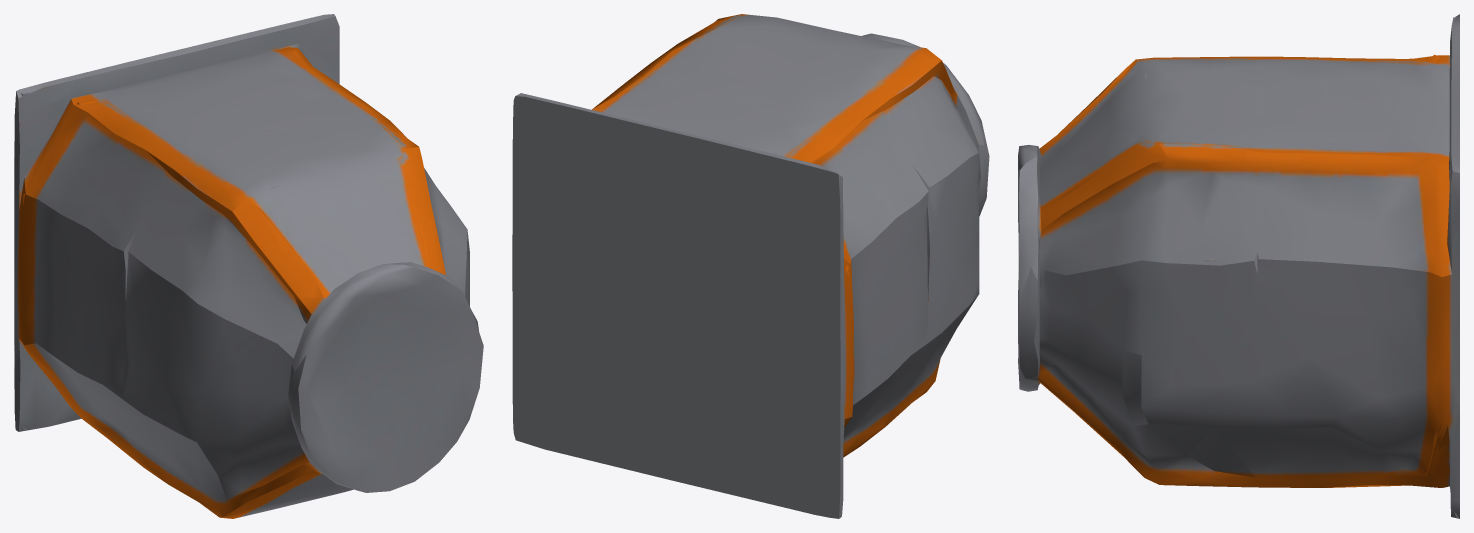
File: ore_storage_mk1.glb
3 views of the same model, side by side, from view 1: azimuth 30°, elevation 25°; view 2: azimuth 150°, elevation 25°; view 3: azimuth 270°, elevation 25° (orthographic). The views are drawn at different scales.
Parts seen in each view (by area): view 1: part; view 2: part; view 3: part.
Boxes of the visible parts, left/top/right/bottom form: part: left=14, top=14, right=483, bottom=518; part: left=512, top=14, right=989, bottom=518; part: left=1018, top=14, right=1459, bottom=518.
Bounding box in the file's own units: 3.5 × 3.5 × 4.
2 materials, 1 textured.
